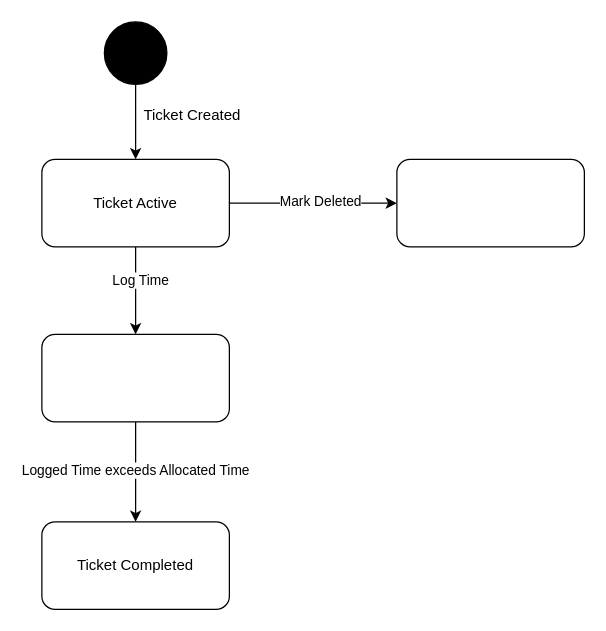
Image size: 606x631. Some labels were removed from this diagram. Here are the shapes that lost their labels. From the top down, the box of each, then its label:
(396, 158, 584, 247): Ticket Deleted
(41, 333, 229, 422): Ticket In Progress
